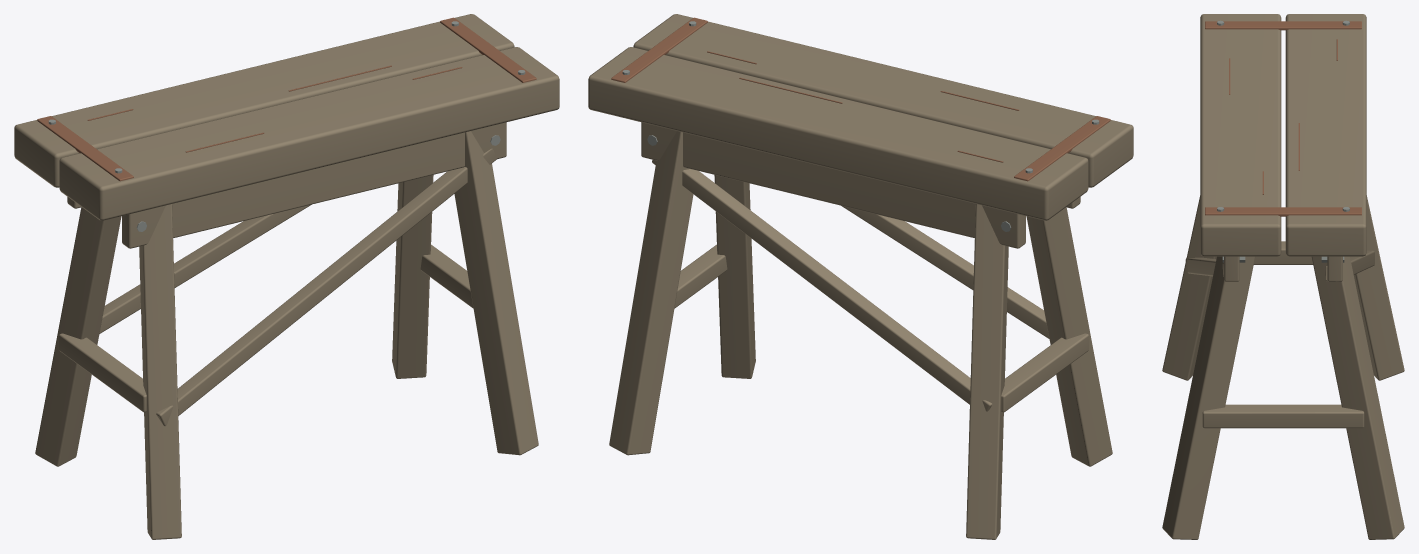
Rendered from work_trestle.glb.
3 views of the same model, side by side, from view 1: azimuth 30°, elevation 25°; view 2: azimuth 150°, elevation 25°; view 3: azimuth 270°, elevation 25° (orthographic). The views are drawn at different scales.
Visible parts, largest first — view 1: work_trestle_mesh; view 2: work_trestle_mesh; view 3: work_trestle_mesh.
Part boxes in pixels (<box>): work_trestle_mesh: <box>14,14,559,539</box>; work_trestle_mesh: <box>588,14,1133,539</box>; work_trestle_mesh: <box>1162,14,1404,539</box>.
Bounding box in the file's own units: 1.12 × 0.8347 × 0.5388.
